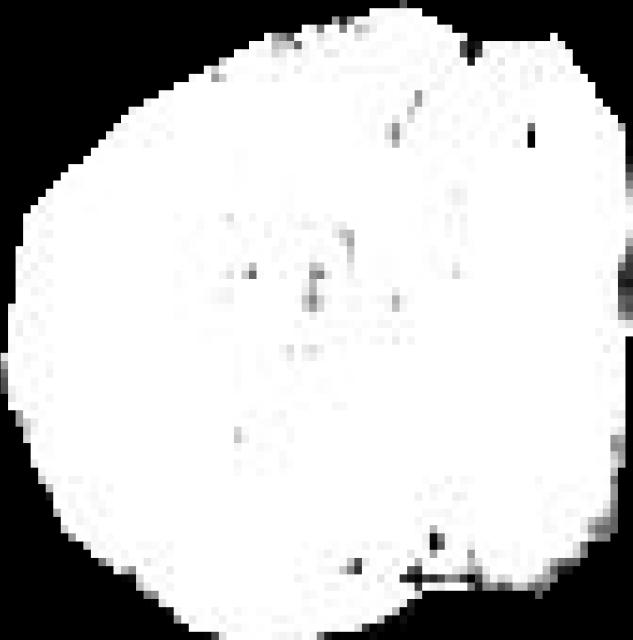tumor_moderate_chance: (1, 0, 633, 640)
